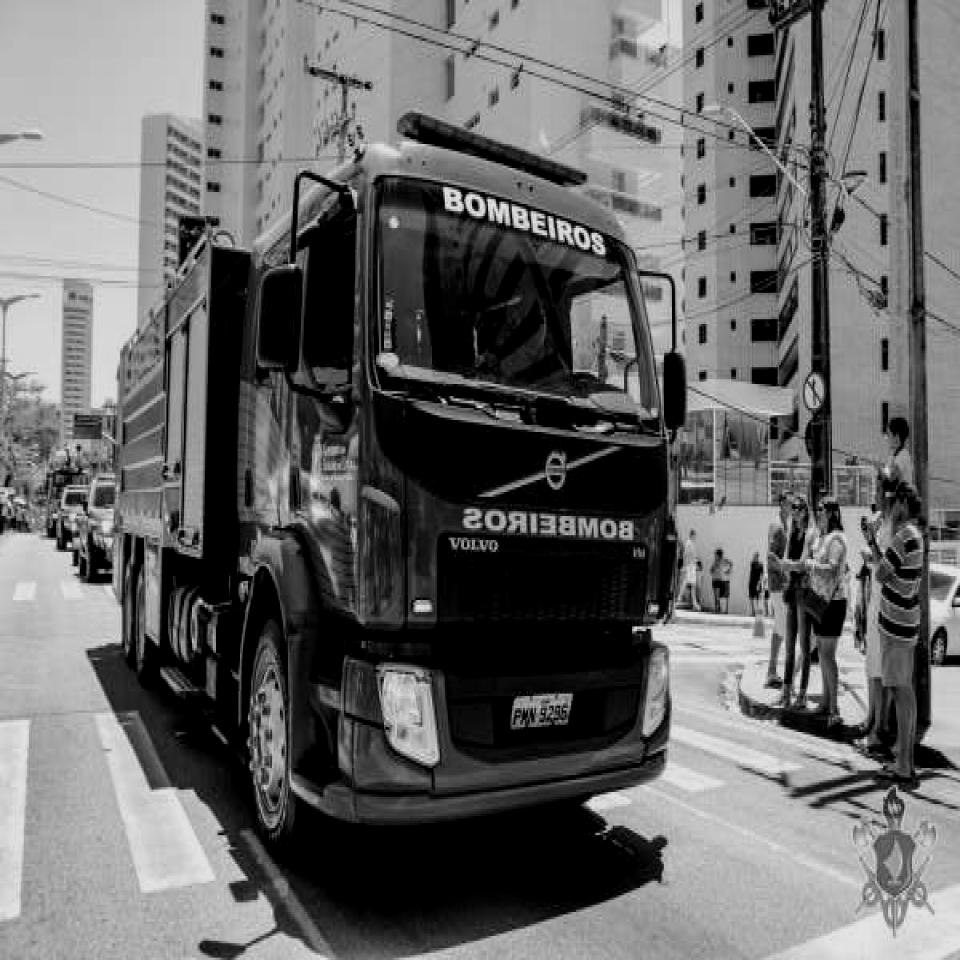bombeiro: (111, 109, 692, 874)
